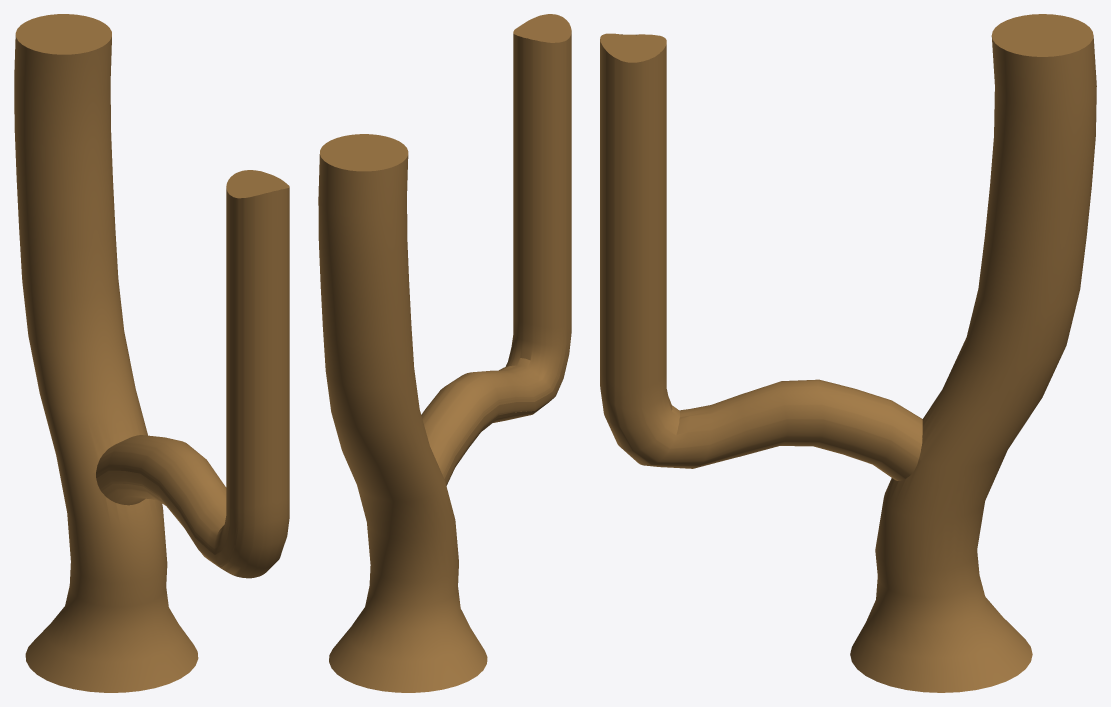
The model's file is tree1_trunk.fbx.
3 views of the same model, side by side, from view 1: azimuth 30°, elevation 25°; view 2: azimuth 150°, elevation 25°; view 3: azimuth 270°, elevation 25° (orthographic). The views are drawn at different scales.
Parts seen in each view (by area): view 1: Cylinder.002; view 2: Cylinder.002; view 3: Cylinder.002.
Boxes of the visible parts, x1,y1,x2,y2 form: Cylinder.002: [14, 14, 289, 692]; Cylinder.002: [318, 14, 571, 692]; Cylinder.002: [600, 14, 1096, 692].
Size of the model in its own units: 55.49 by 208 by 151.
